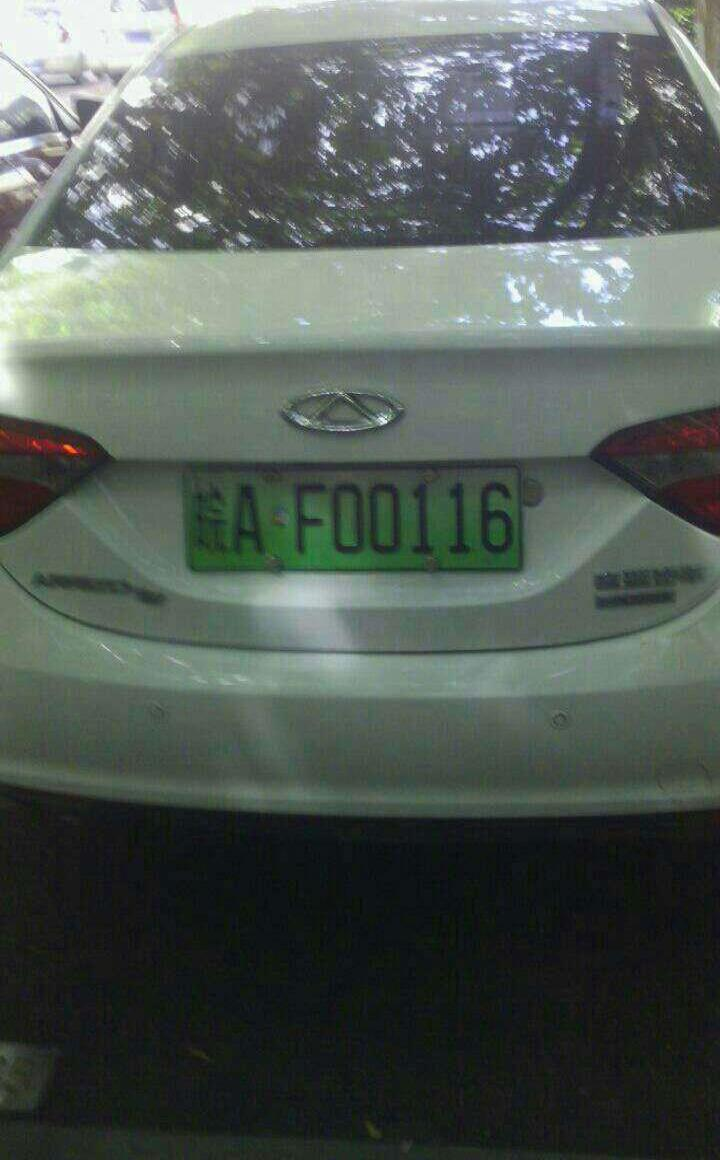car: (178, 466, 529, 572)
